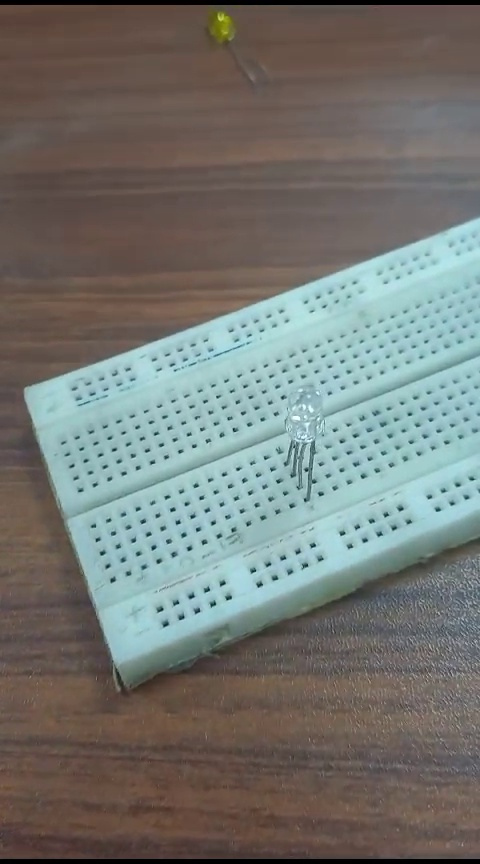LED: (279, 379, 326, 497)
